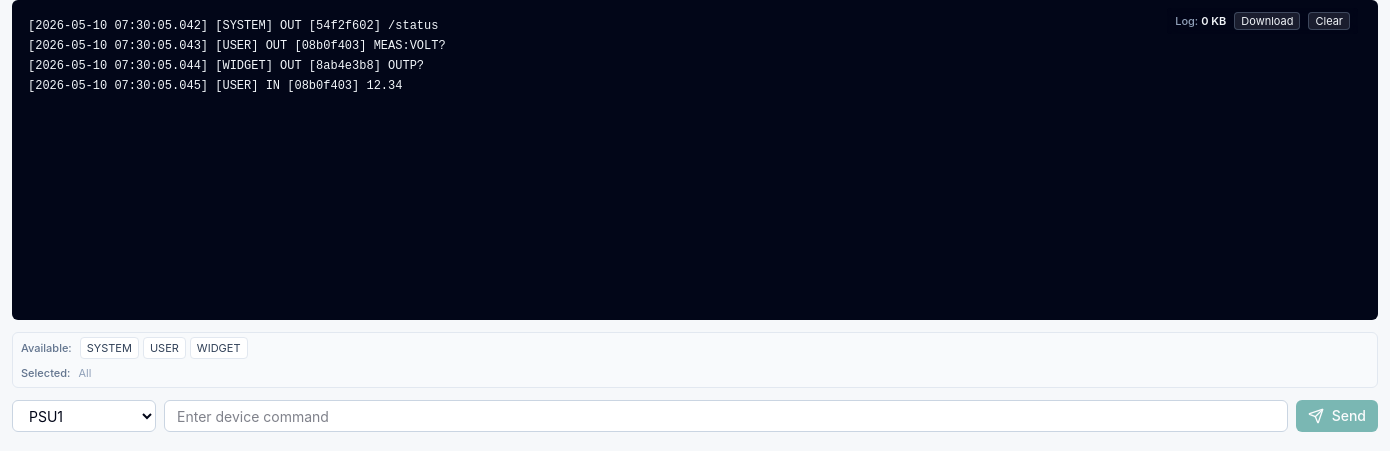
Test case: WebSocketMonitor › selects only USER after sending and restores all messages when removed (existing filter: true)
Click the button "SYSTEM": (109, 348) [80, 337, 139, 359]
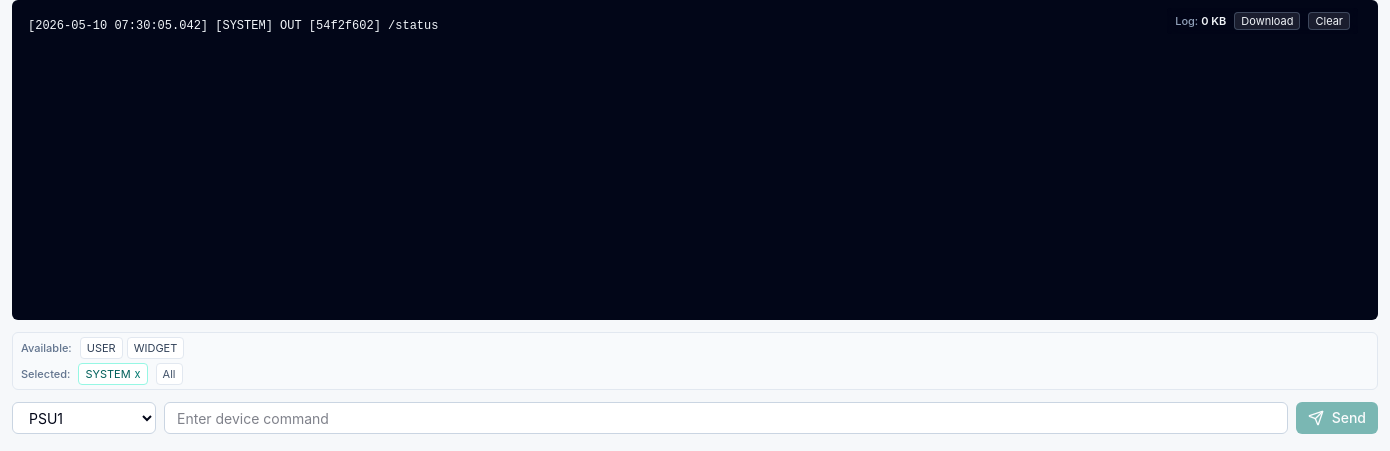
In the field: (726, 418) [164, 402, 1288, 434], type "MEAS:VOLT?"
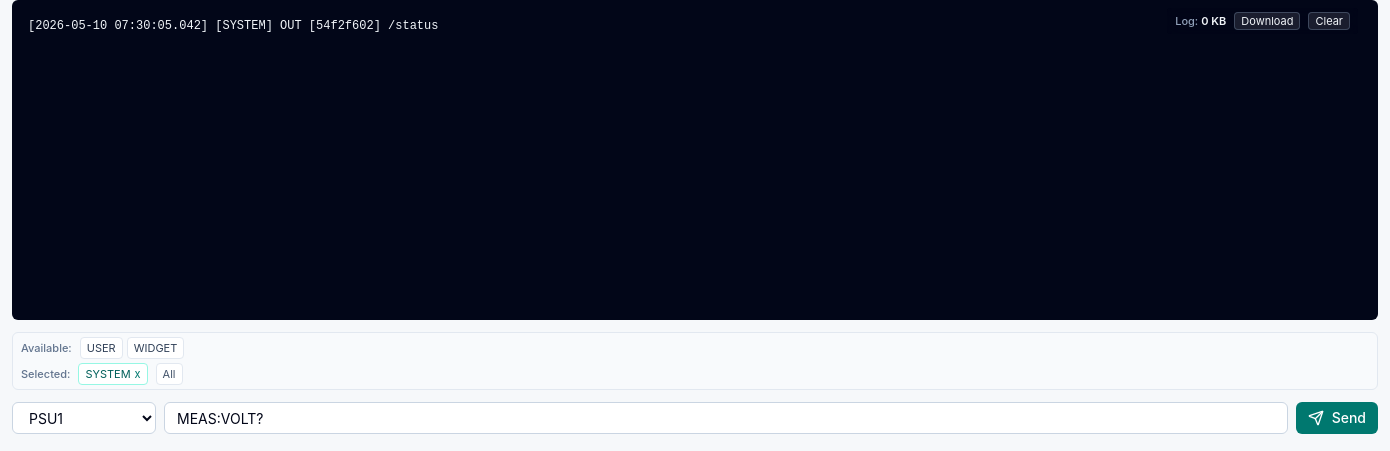
Click the button "Send": (1337, 418) [1296, 402, 1378, 434]
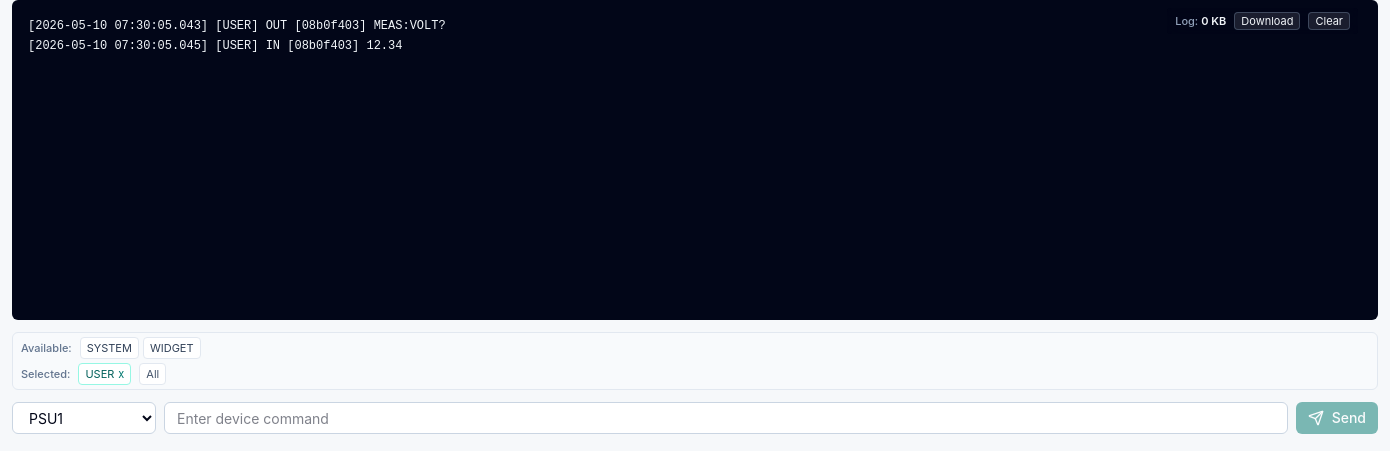
Now the button named "Remove USER filter" is shown
Now the text "12.34" is shown, box [28, 19, 446, 53]
Now the text "/status" is gone
Click the button named "Remove USER filter": (121, 374) [118, 364, 124, 384]
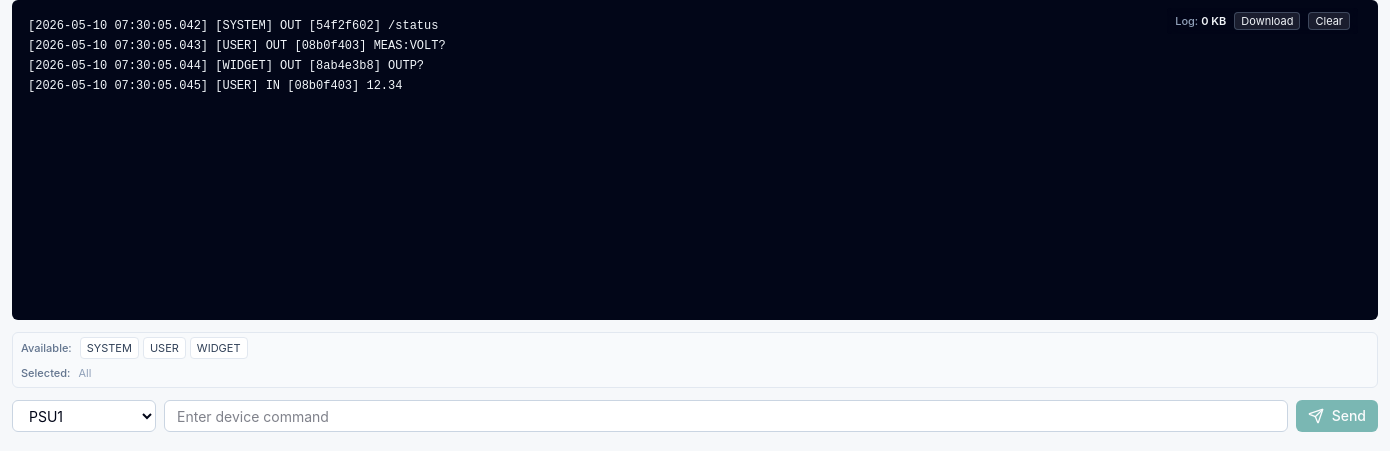
Now the text "OUTP?" is shown, box [28, 19, 446, 93]
